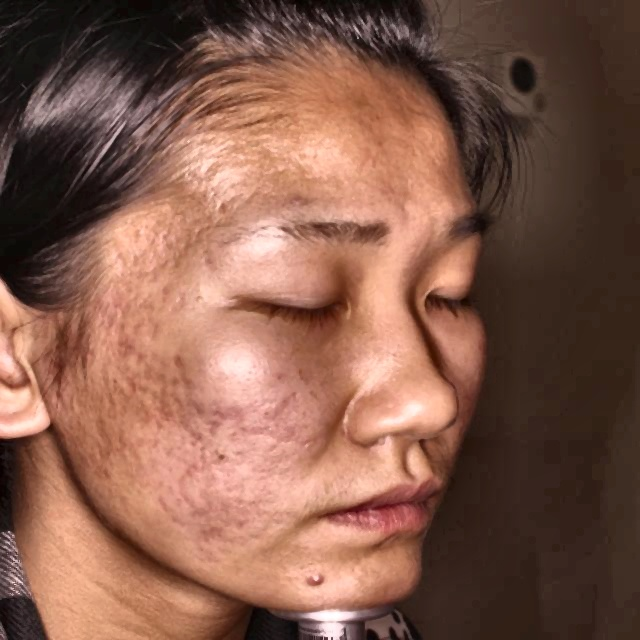comedone: (306, 566, 322, 596)
